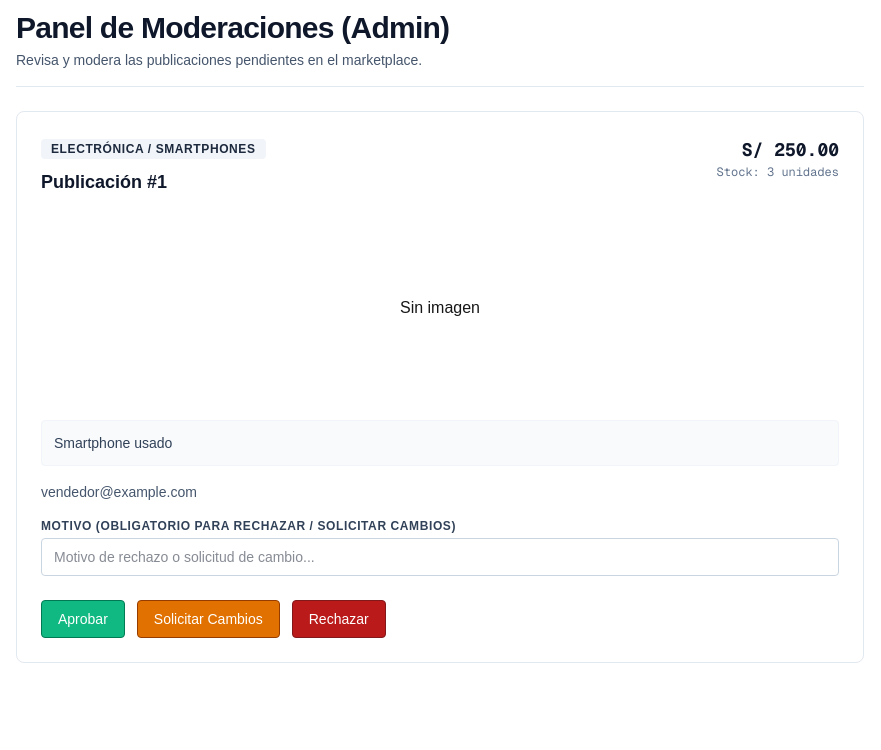
Test: PanelModeracion (PHA02TSK13) › muestra un mensaje de error 409 cuando la publicación ya no está pendiente de revisión
The image size is (881, 750).
Click the button "Aprobar" at (83, 619), box left=41, top=600, right=125, bottom=638
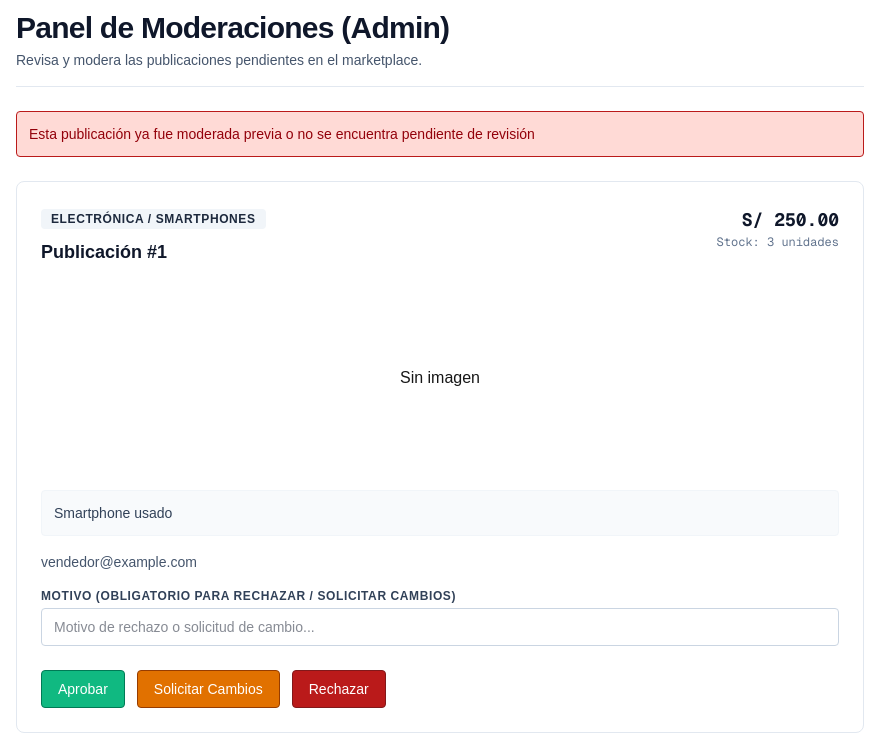
expect the text "Esta publicación ya fue moderada" is shown: met, box left=29, top=126, right=535, bottom=142
